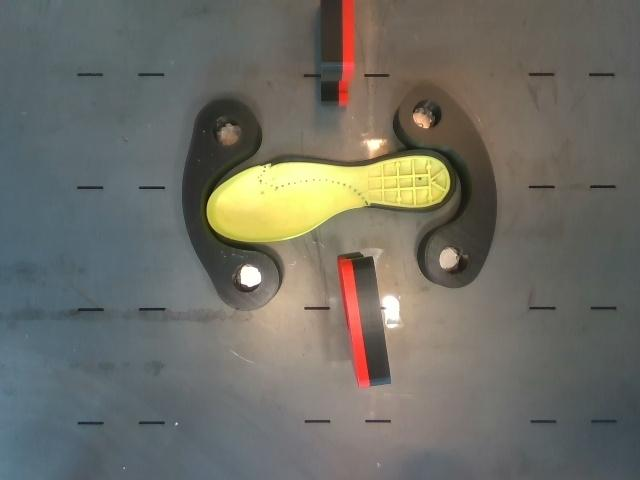shoes: (207, 150, 455, 241)
